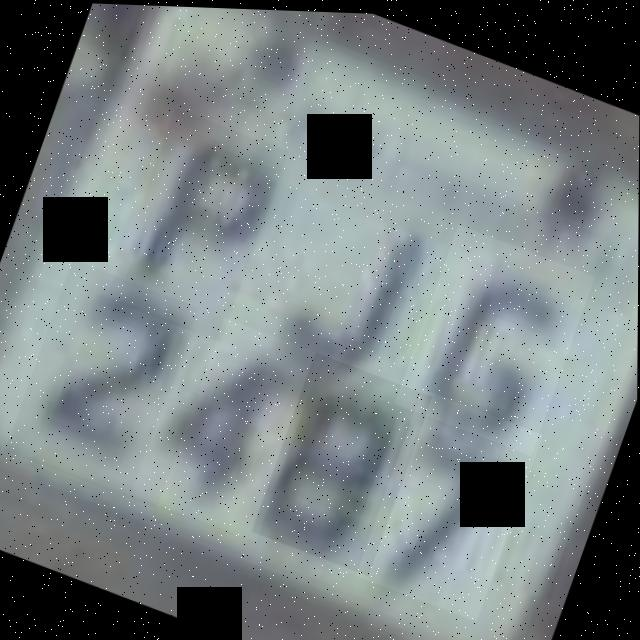2: (5, 257, 225, 509)
4: (132, 304, 323, 541)
7: (356, 383, 543, 620)
8: (251, 347, 433, 575)
G: (394, 219, 595, 453)
J: (251, 168, 457, 395)
P: (108, 104, 289, 342)
